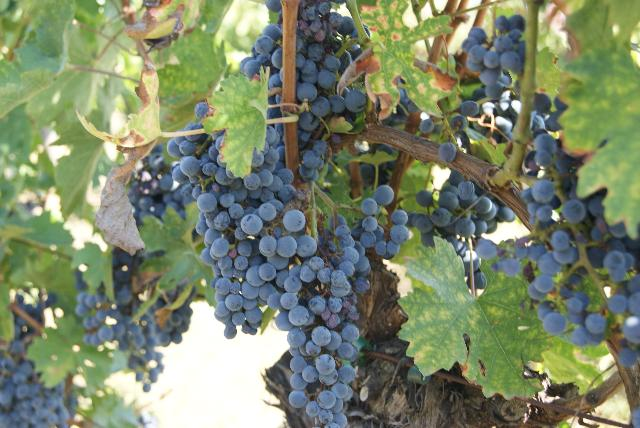grapes: (494, 132, 640, 368), (276, 186, 409, 428), (166, 128, 302, 339)
